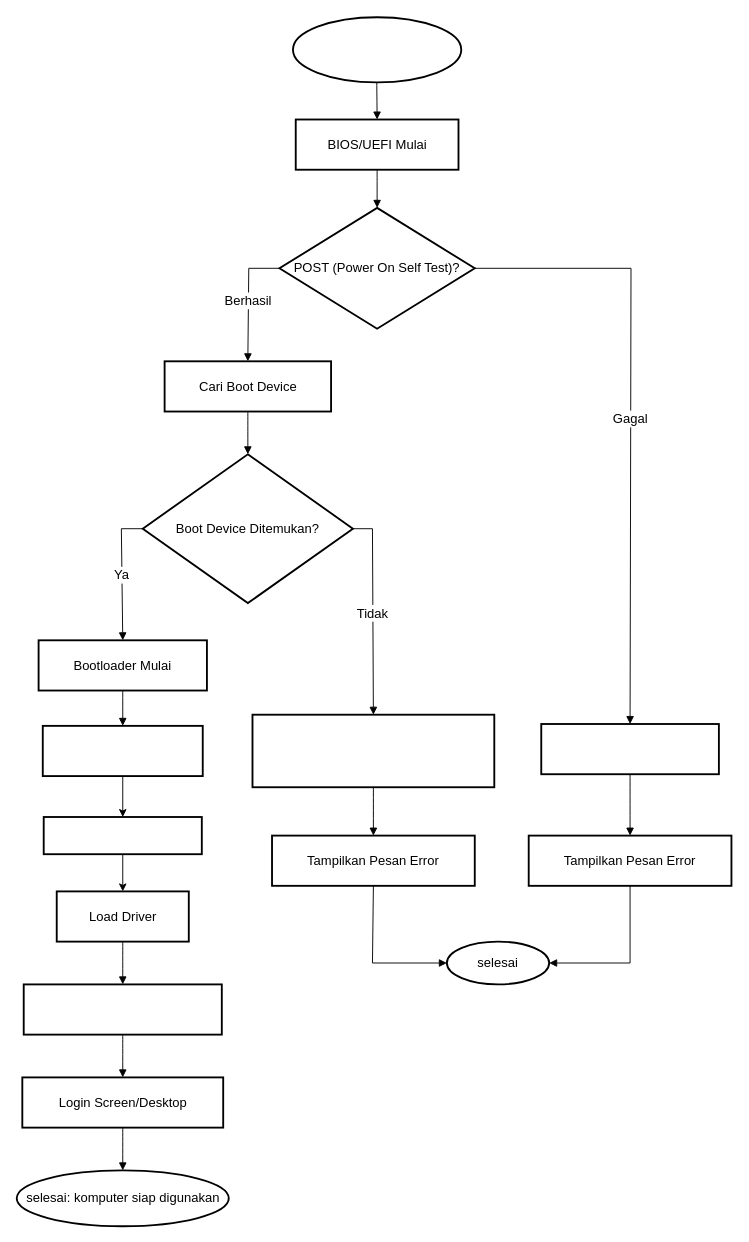
Some shapes in this 749 by 1242 pixel diagram are drawn without their labels. The shapes that lost their labels are listed below. From the top down, each one's centre as x and y in pixels, then its label:
the point at 377,49: Mulai: Tekan Tombol Power
the point at 122,750: Kernel OS Mulai
the point at 373,750: Error: Boot Device Not Found
the point at 629,749: Error: POST Failed
the point at 122,835: inisialisasi hardware
the point at 122,1009: Mulai Layanan Sistem
